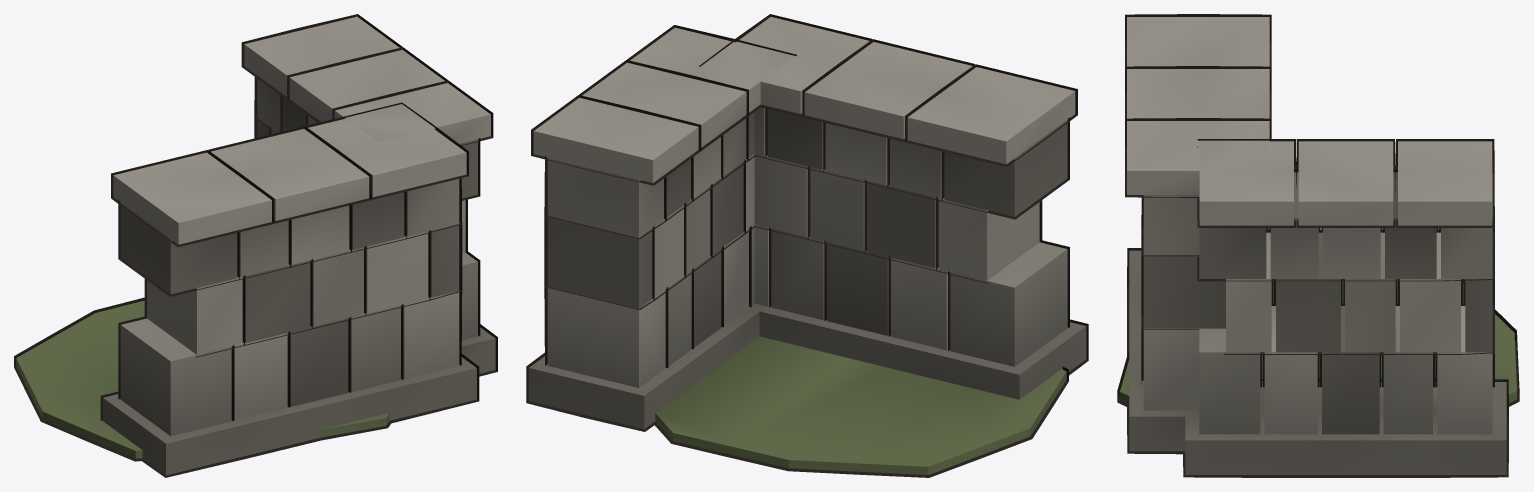
The model's file is mur_coin.glb.
3 renders of one model, left to right at view 1: azimuth 30°, elevation 25°; view 2: azimuth 150°, elevation 25°; view 3: azimuth 270°, elevation 25°, orthographic. The views are drawn at different scales.
Visible parts, largest first — view 1: mur_coin, mur_coin_outline; view 2: mur_coin, mur_coin_outline; view 3: mur_coin, mur_coin_outline.
Part boxes in pixels (left/top/right/bottom): mur_coin: left=16, top=16, right=495, bottom=475; mur_coin_outline: left=14, top=14, right=497, bottom=477; mur_coin: left=528, top=17, right=1086, bottom=474; mur_coin_outline: left=526, top=14, right=1088, bottom=477; mur_coin: left=1120, top=17, right=1516, bottom=474; mur_coin_outline: left=1117, top=14, right=1519, bottom=477.
Bounding box in the file's own units: 2.1 × 1.29 × 1.69.
